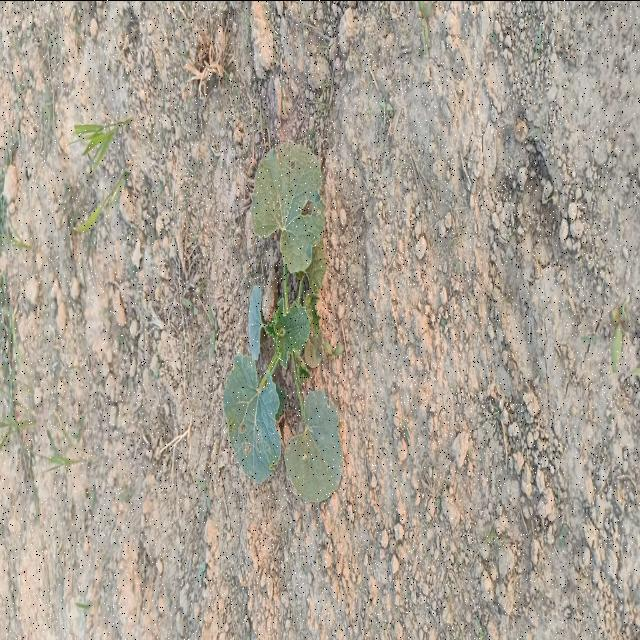plant: (223, 139, 343, 499)
